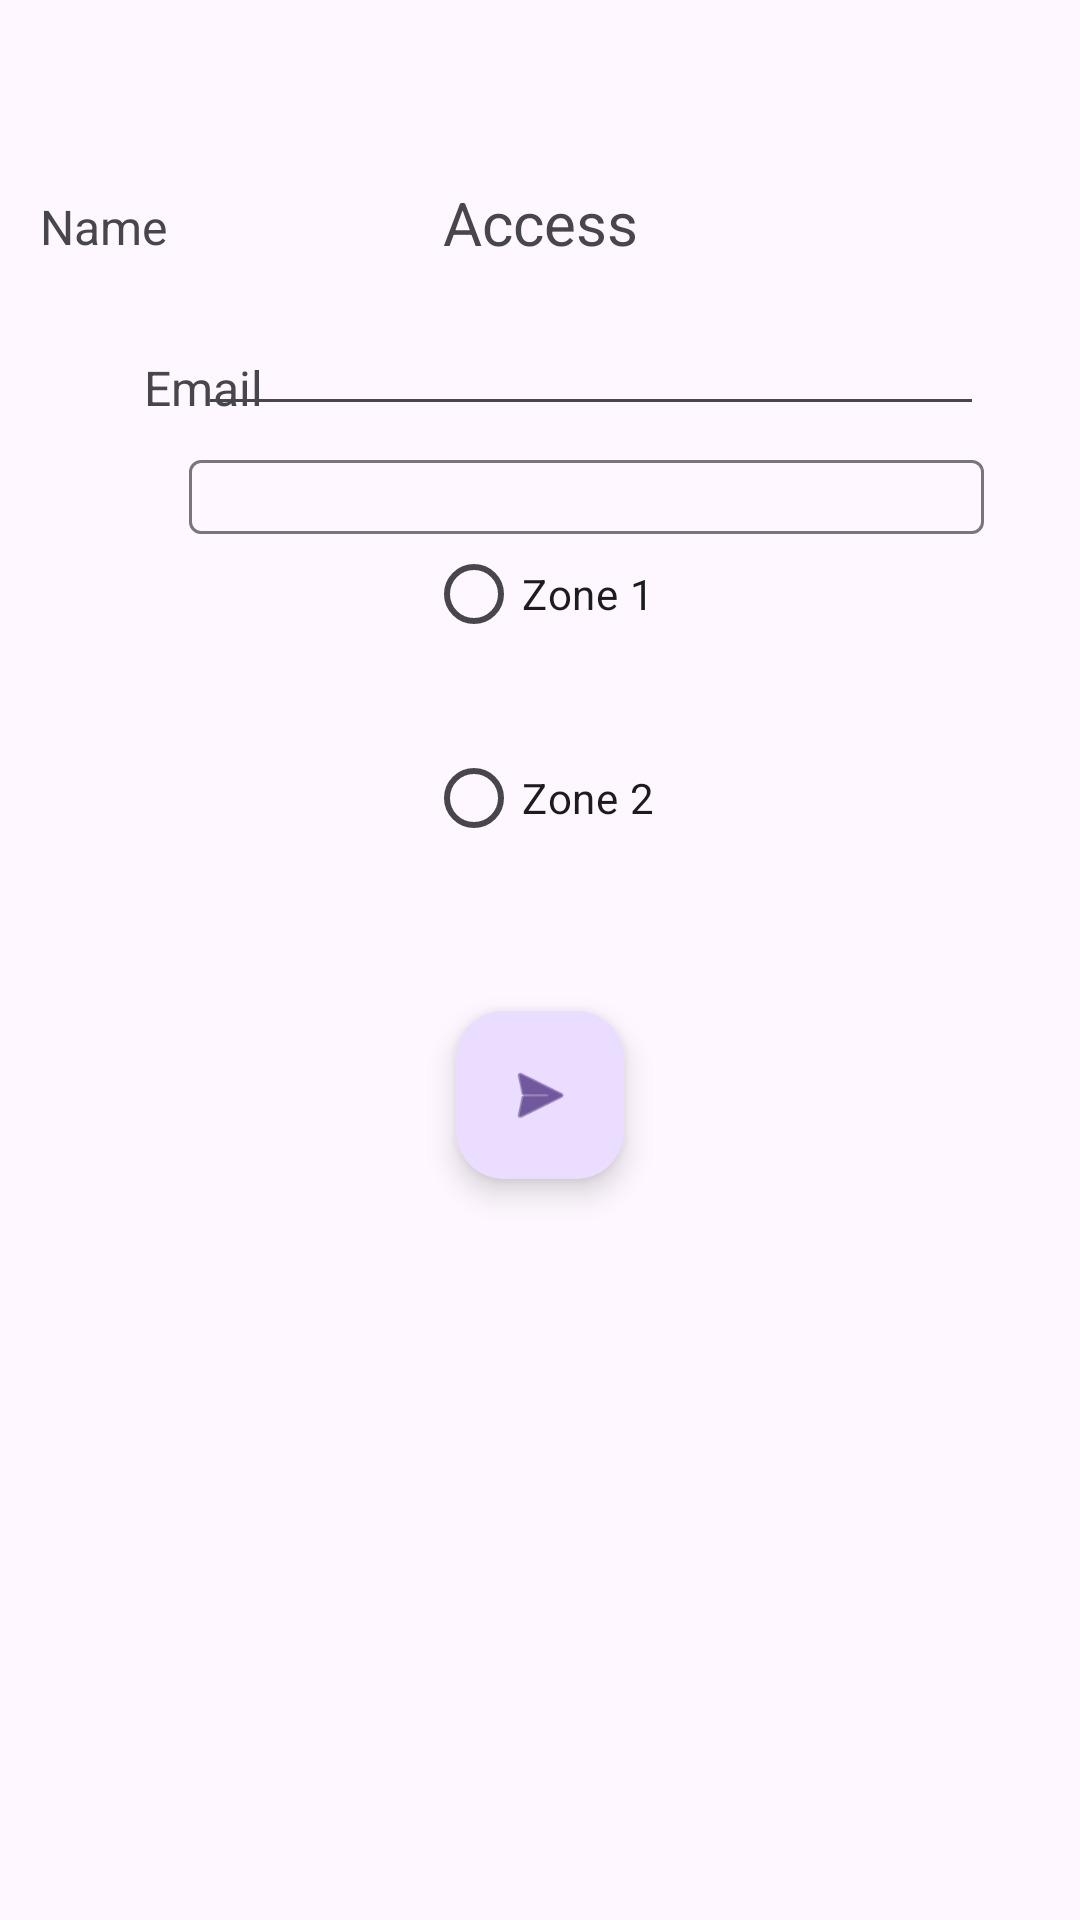

Screen size 1080w x 1920h. Icon name, then its box in pixels as bbox=[x1, y1, x2, y2]:
send: bbox=[456, 1011, 624, 1179]
